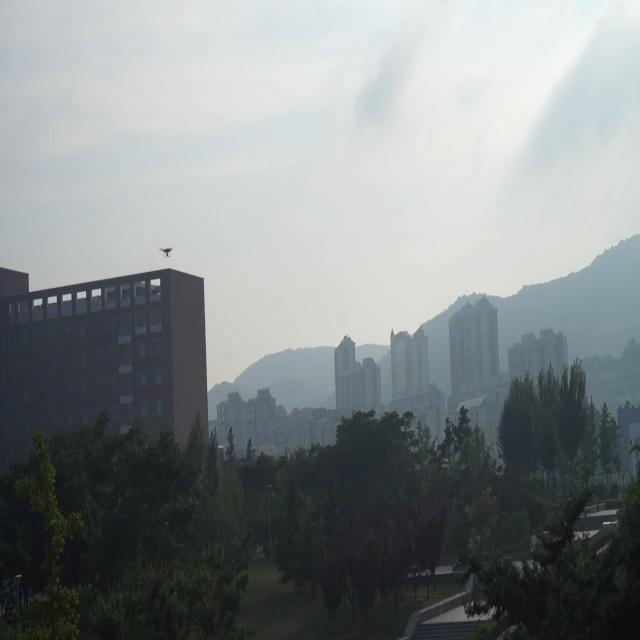UAV: (159, 247, 173, 258)
